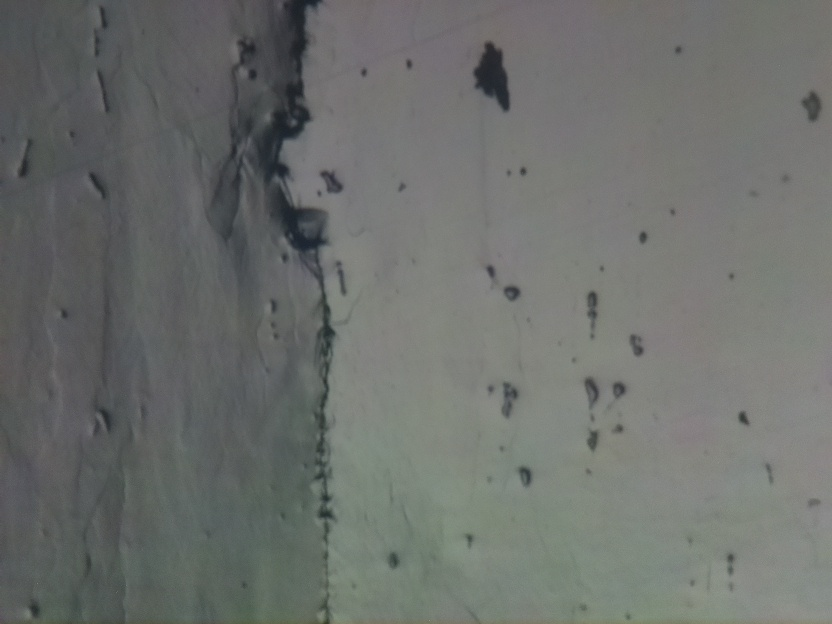crack: (259, 0, 335, 620)
